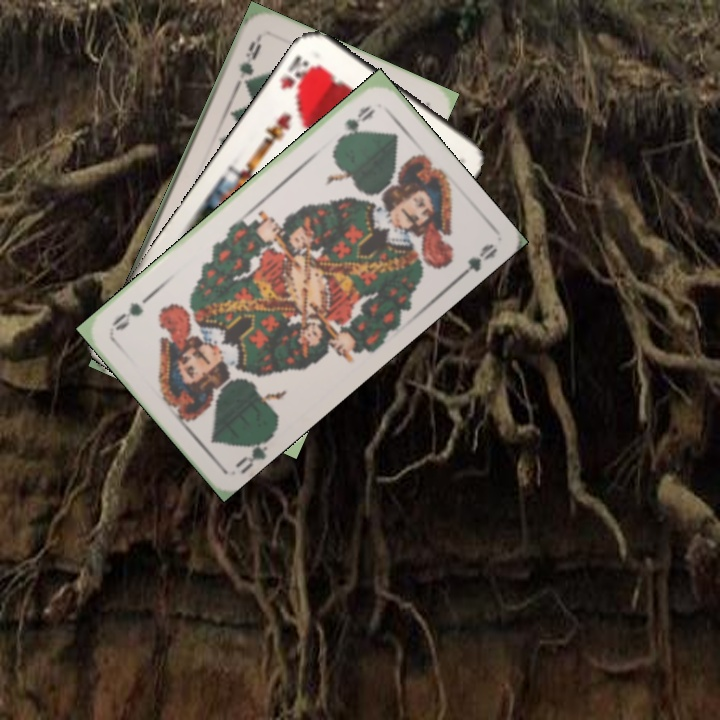G9: (232, 31, 264, 90)
GO: (332, 100, 378, 147), (231, 428, 277, 475)
HK: (276, 51, 320, 101)
